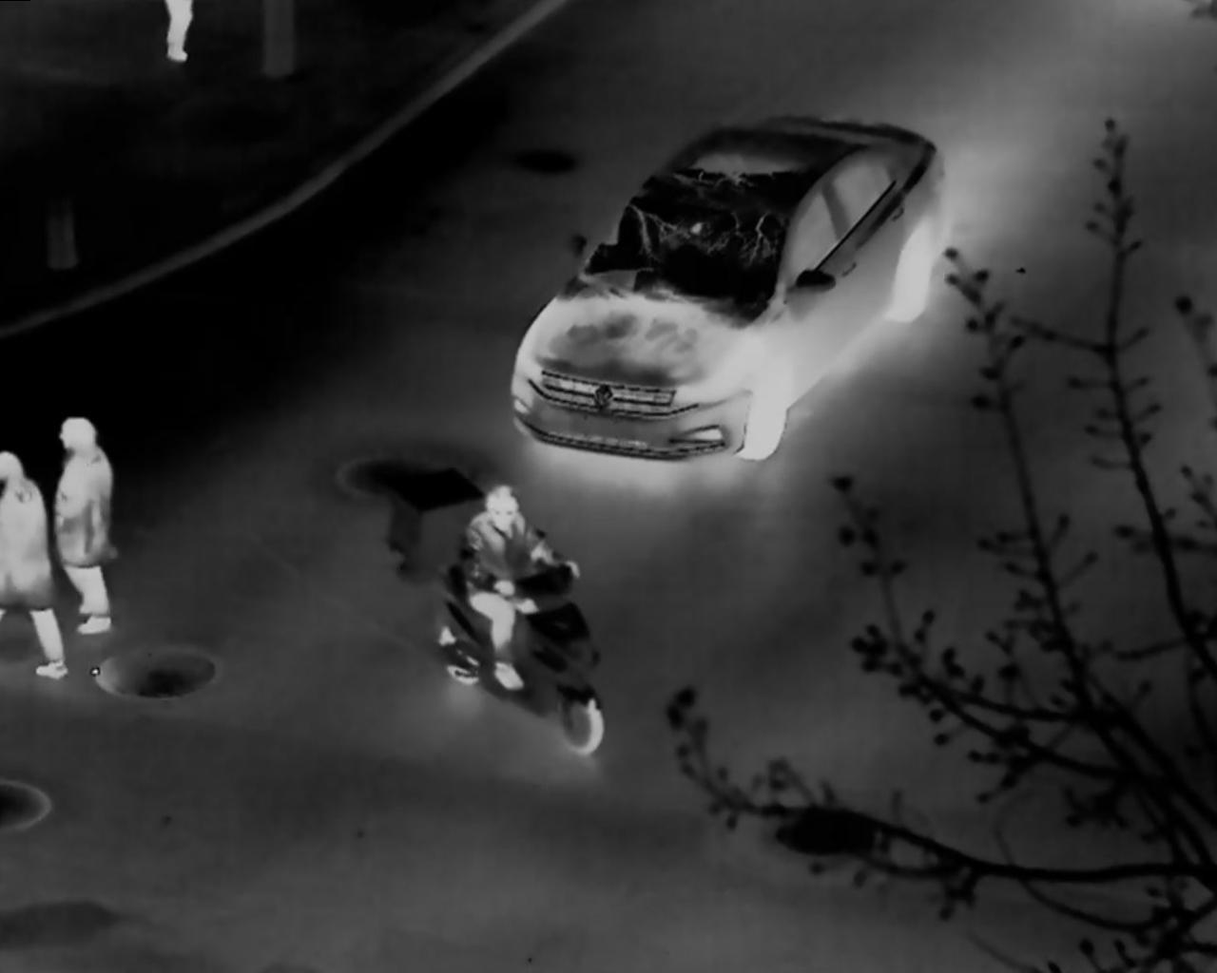person: (462, 483, 585, 695), (52, 415, 123, 636)
